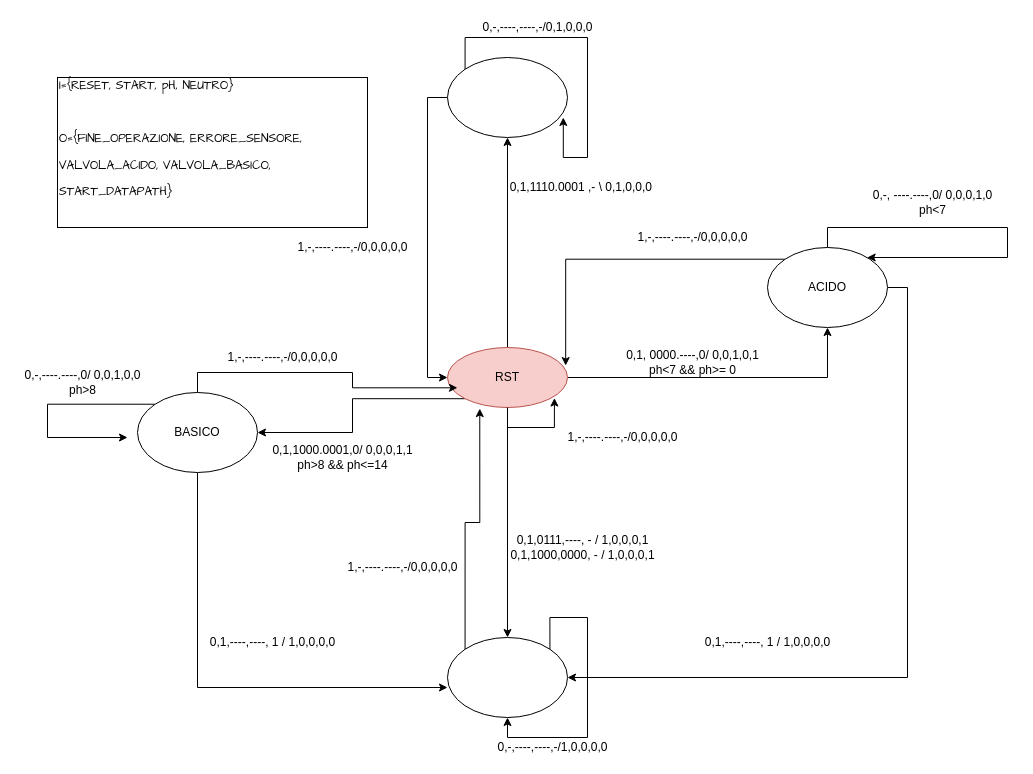
This 1033x774 diagram has some shape labels left out. Each missing label, with the box of its shape:
ERRORE: (446, 56, 568, 138)
NEUTRO: (446, 636, 568, 718)
